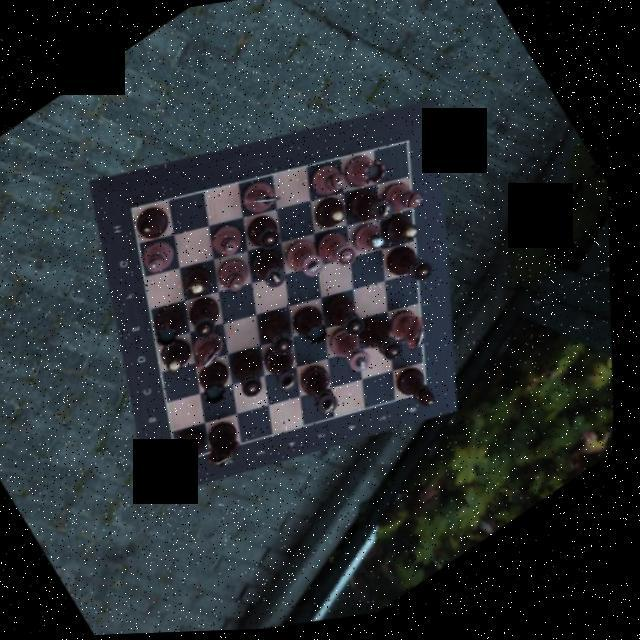chess-table-corners: (386, 126, 432, 168), (114, 192, 159, 233), (408, 374, 449, 412), (166, 444, 206, 481)
